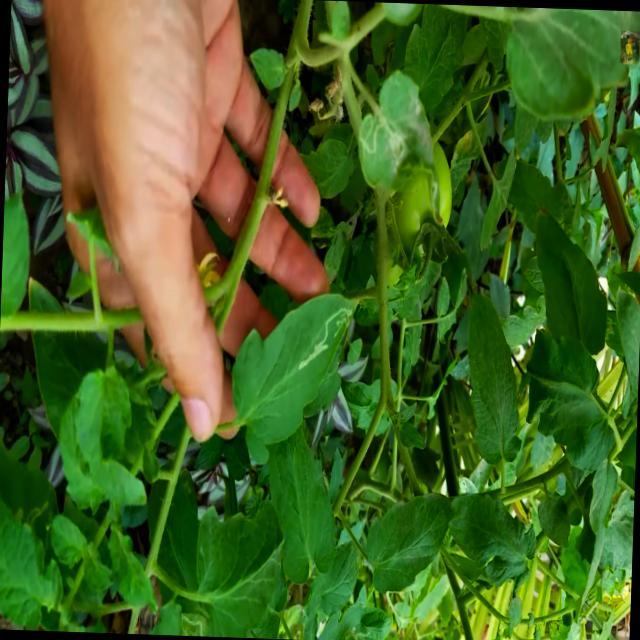Tomato healthy leaf: (522, 326, 619, 476), (192, 498, 290, 639), (262, 426, 342, 590), (462, 291, 526, 468), (364, 490, 458, 597), (0, 484, 66, 631), (447, 492, 537, 589), (536, 488, 572, 548)
Tomato target spot leaf: (228, 286, 362, 470), (357, 67, 437, 197), (12, 497, 51, 537)
